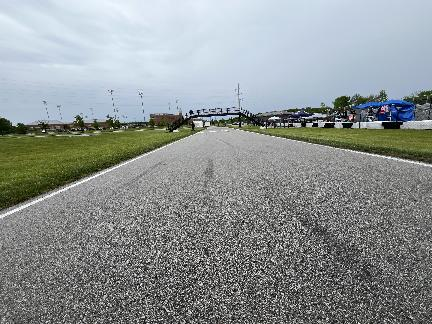Grass: (0, 129, 202, 208), (243, 126, 431, 162)
Lane: (0, 128, 431, 323)
